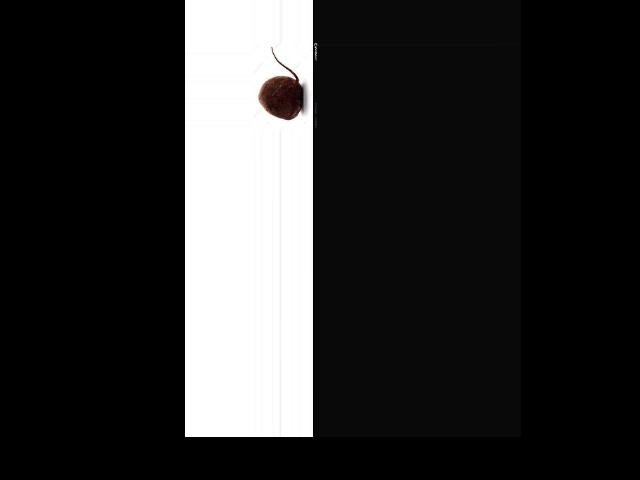beet: (259, 47, 302, 120)
